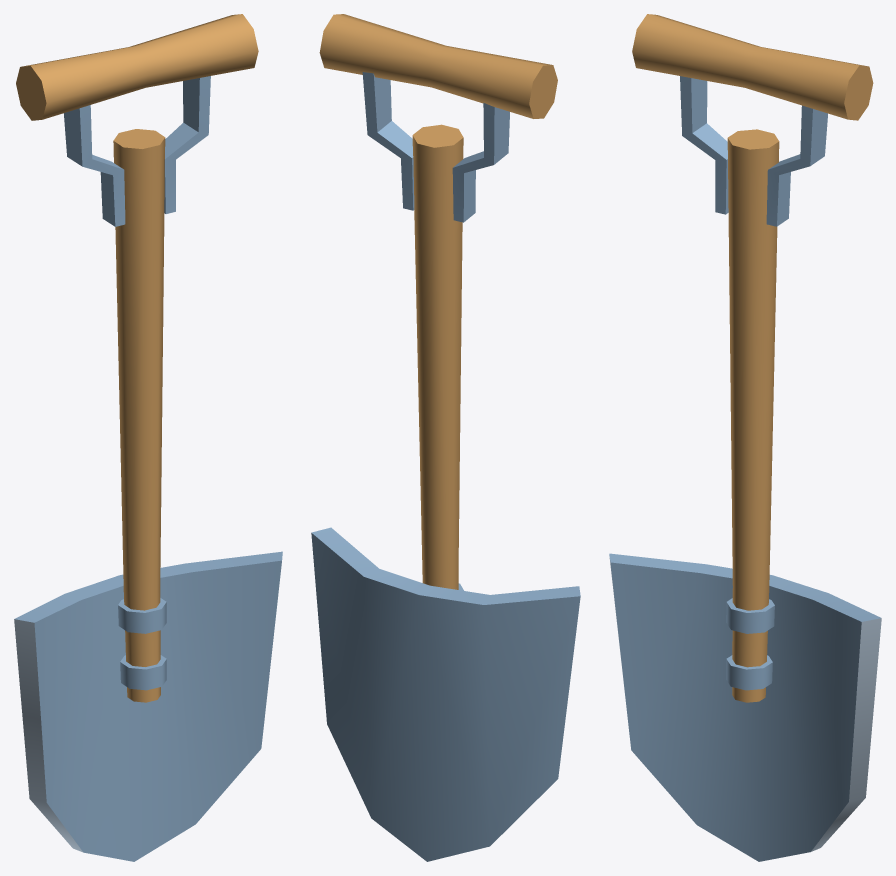
The model's file is Spade.fbx.
3 renders of one model, left to right at view 1: azimuth 30°, elevation 25°; view 2: azimuth 150°, elevation 25°; view 3: azimuth 330°, elevation 25°, orthographic.
Parts seen in each view (by area): view 1: Spade; view 2: Spade; view 3: Spade.
Boxes of the visible parts, <box> form: Spade: <box>14,14,282,861</box>; Spade: <box>311,14,580,861</box>; Spade: <box>609,14,881,861</box>.
Size of the model in its own units: 1.8 by 5.25 by 0.4457.
